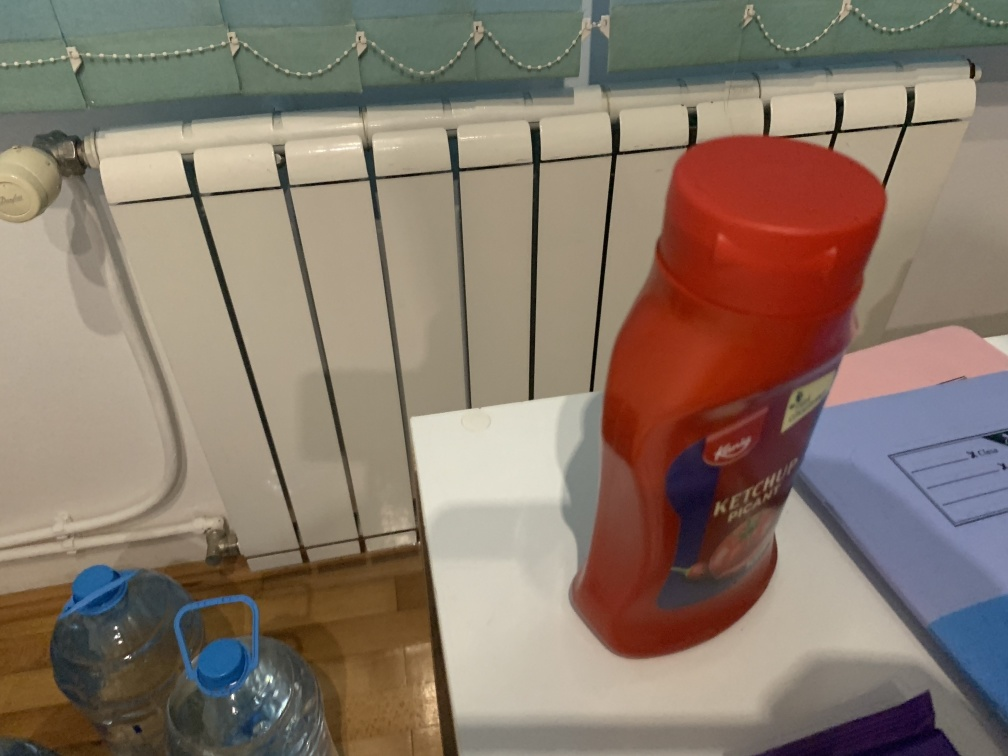ketchup: (584, 117, 892, 668)
